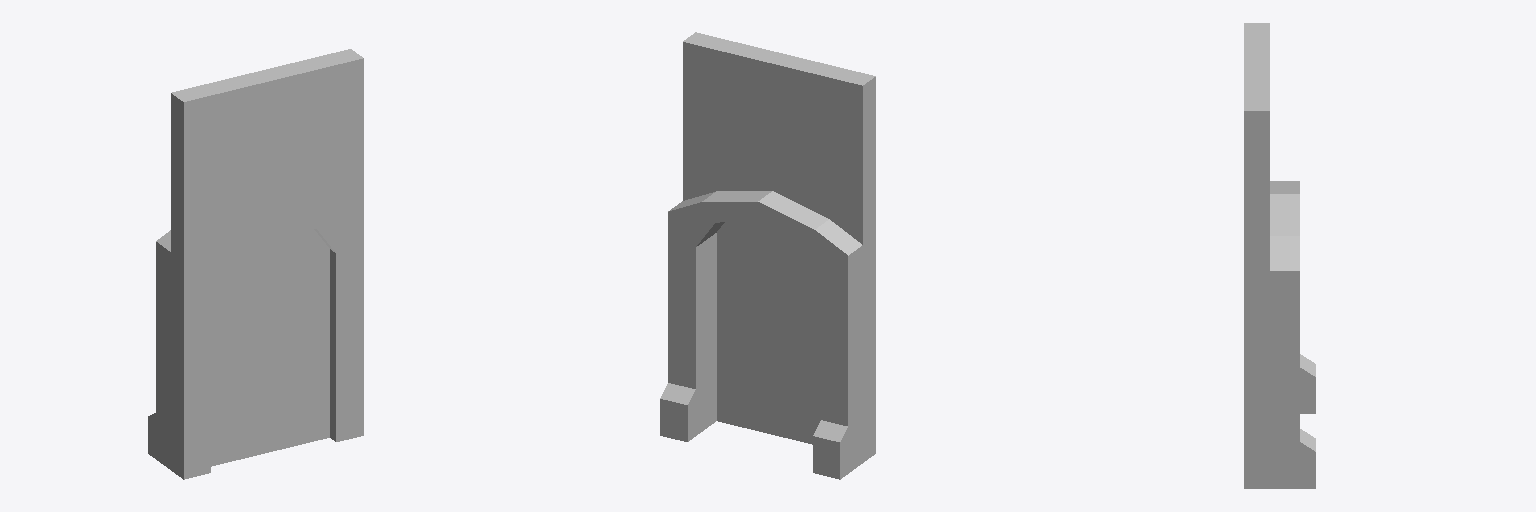
Rendered from vneshnjaja_arka_001.obj.
3 views of the same model, side by side, from view 1: azimuth 30°, elevation 25°; view 2: azimuth 150°, elevation 25°; view 3: azimuth 270°, elevation 25° (orthographic).
Visible parts, largest first — view 1: Внешняя_Арка.001; view 2: Внешняя_Арка.001; view 3: Внешняя_Арка.001.
Boxes of the visible parts, x1,y1,x2,y2 form: Внешняя_Арка.001: [148, 49, 363, 479]; Внешняя_Арка.001: [660, 32, 875, 479]; Внешняя_Арка.001: [1244, 23, 1315, 488].
Bounding box in the file's own units: 2 × 4 × 0.6828.